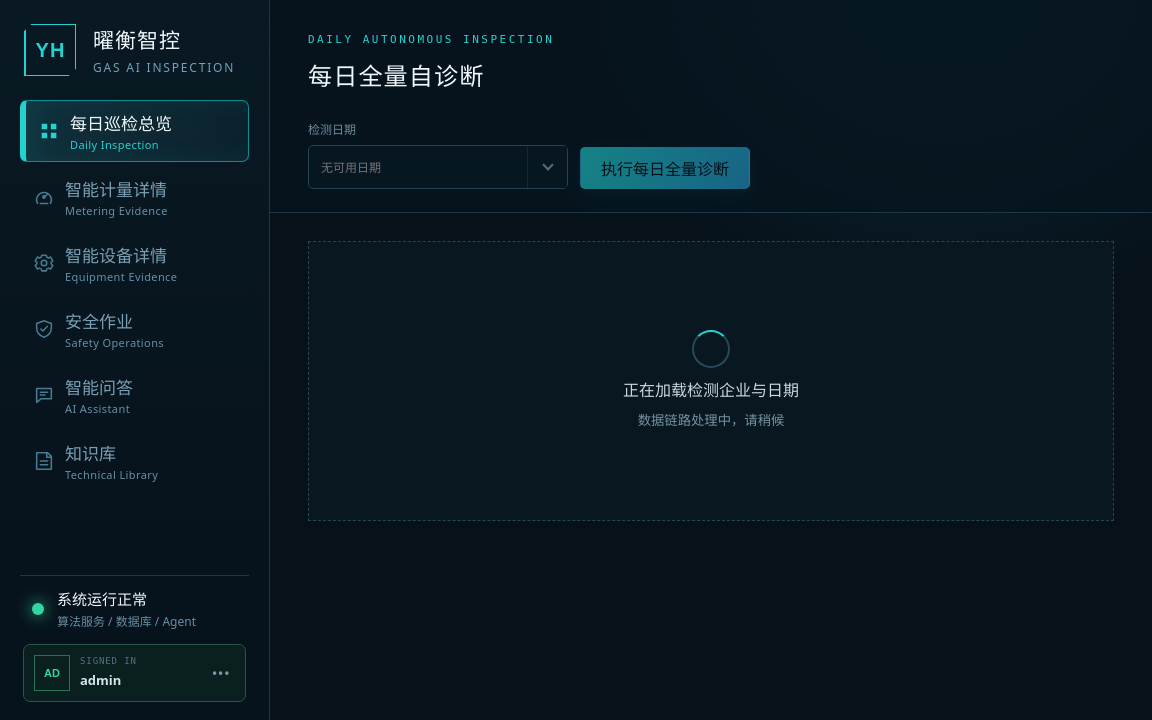
Agent 自动调用控制 › 计量和设备详情共用可搜索企业控件
Click the button "智能计量详情 Metering Evidence": coordinates (134, 197) [20,166,249,228]
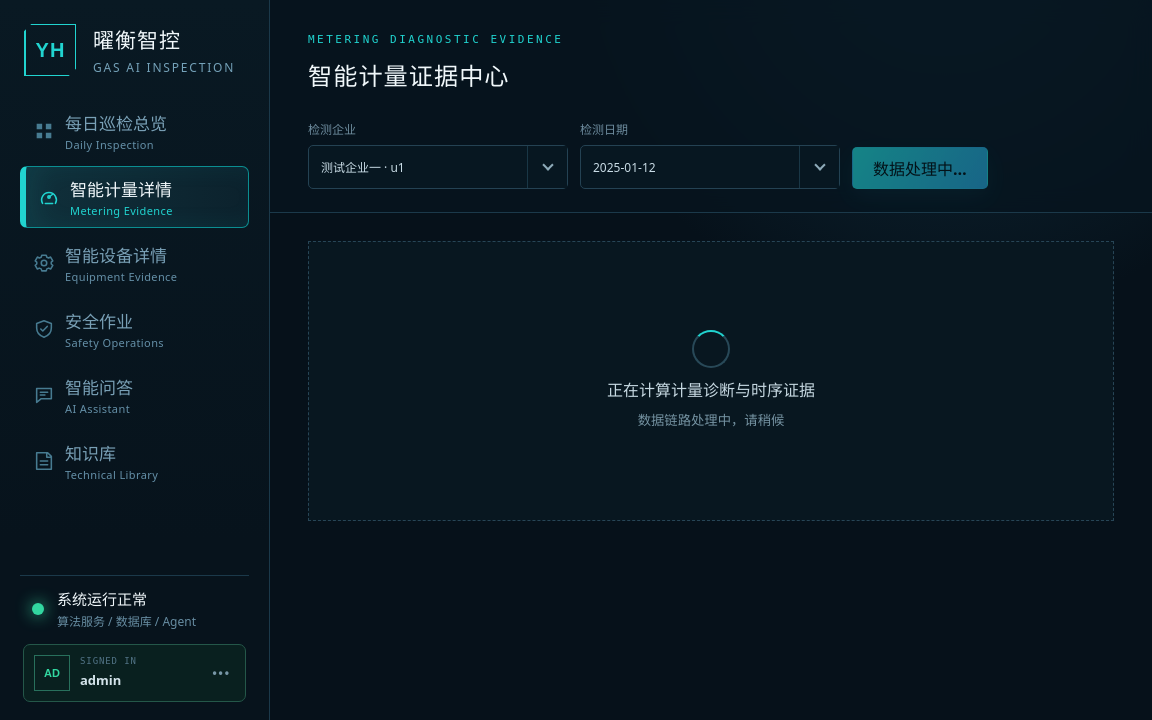
Result: the dropdown labelled "检测企业" is shown at [308,145,568,189]
Click the button "智能设备详情 Equipment Evidence": coordinates (134, 263) [20,232,249,294]
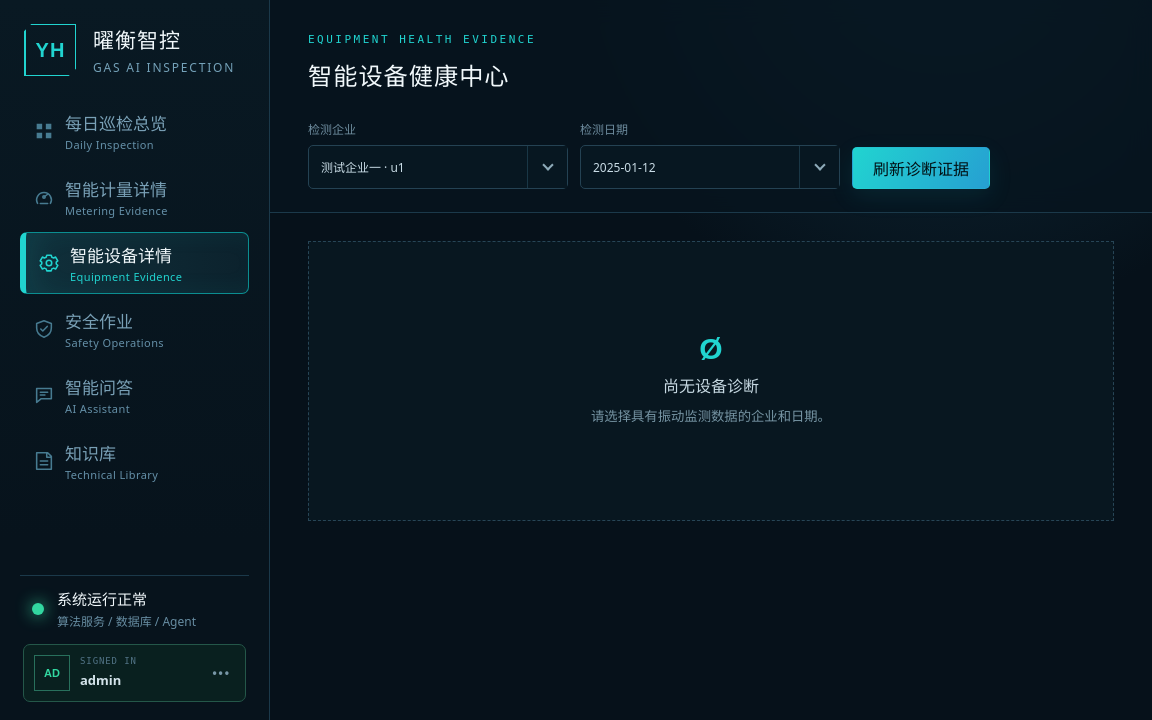
Result: the dropdown labelled "检测企业" is shown at [308,145,568,189]
Result: the text "尚无设备诊断" is shown at [663,373,759,397]
